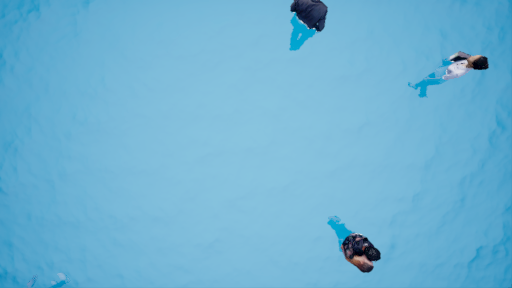person: (410, 49, 493, 103), (321, 210, 388, 273), (288, 2, 324, 60)
